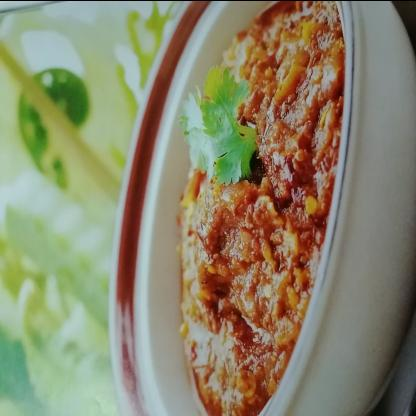Namprig: (124, 0, 400, 402)
